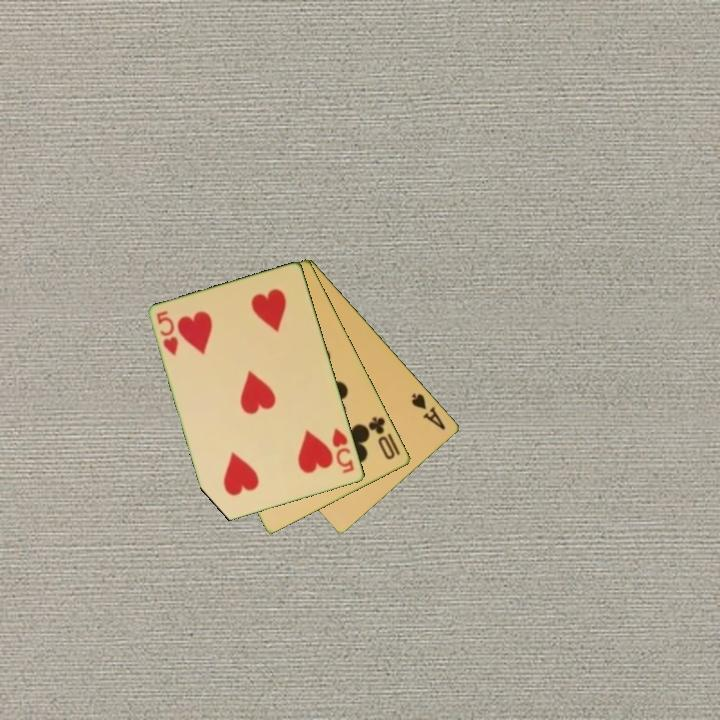10c: (365, 413, 398, 463)
5h: (153, 307, 182, 359), (329, 424, 357, 477)
As: (408, 389, 449, 433)
